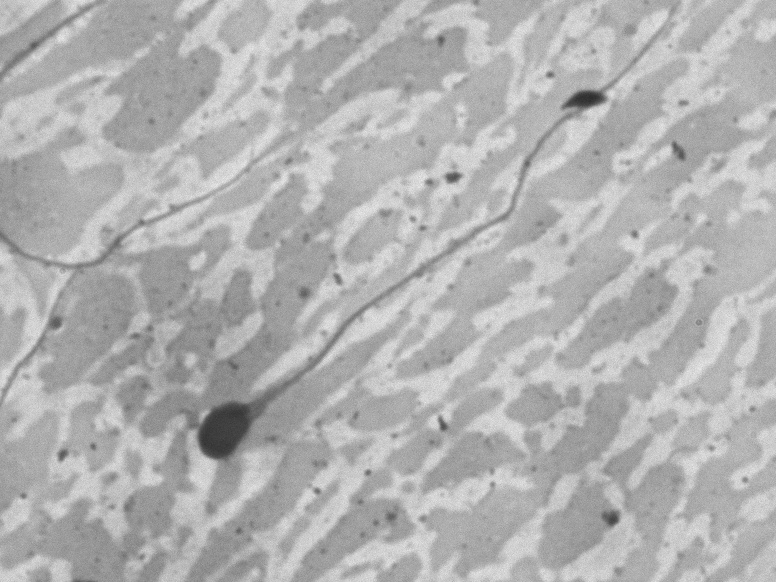Abnormal: (178, 17, 677, 482)
